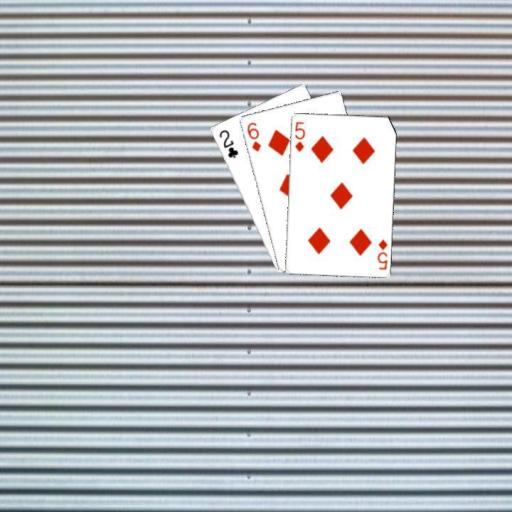2C: (216, 127, 240, 159)
5D: (292, 118, 307, 153), (374, 236, 389, 271)
6D: (244, 119, 262, 153)
